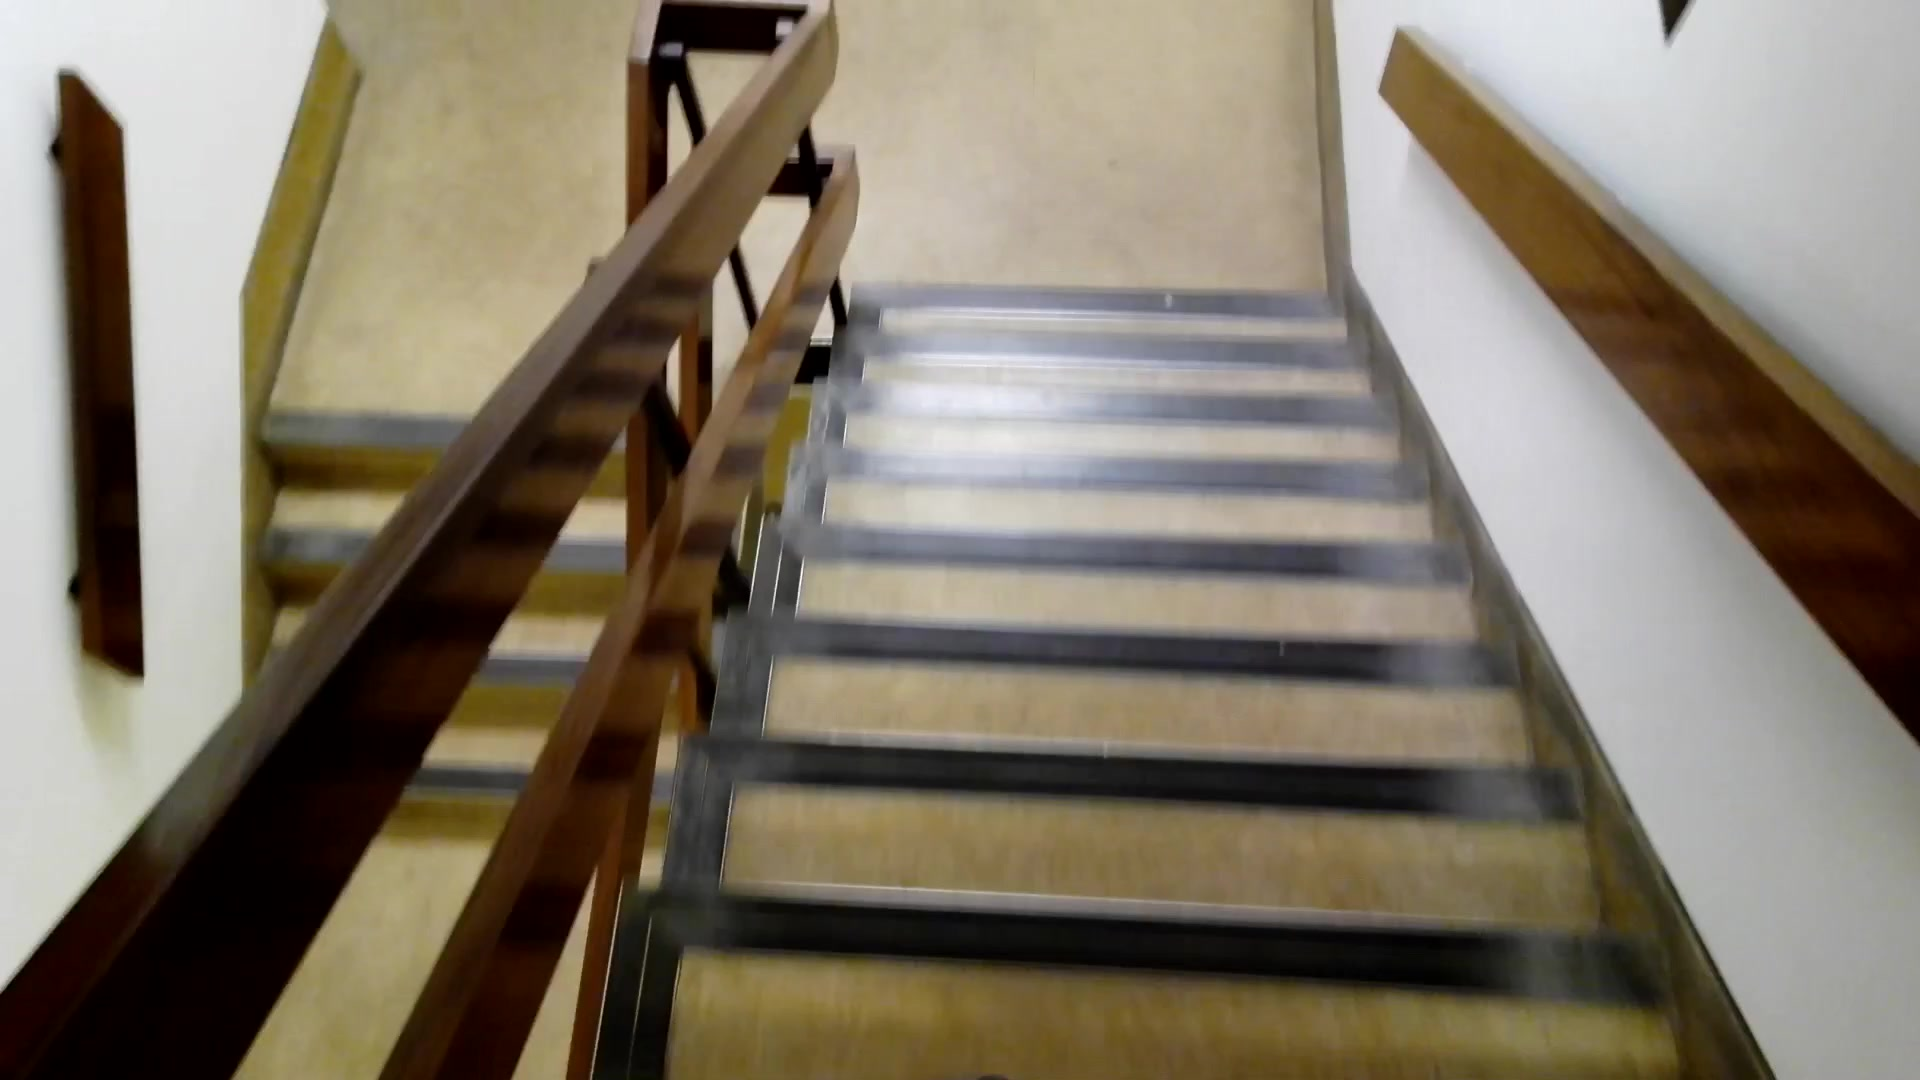Stairs: (757, 247, 1774, 1080)
